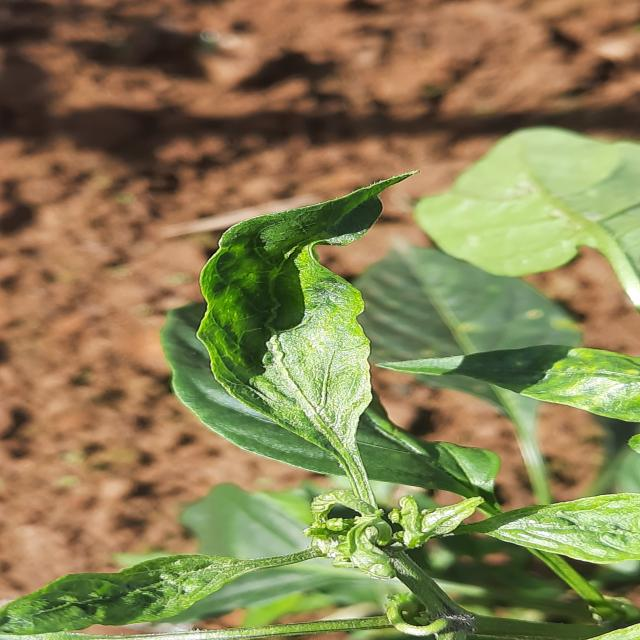thrips: (182, 162, 455, 460), (3, 541, 353, 640)
